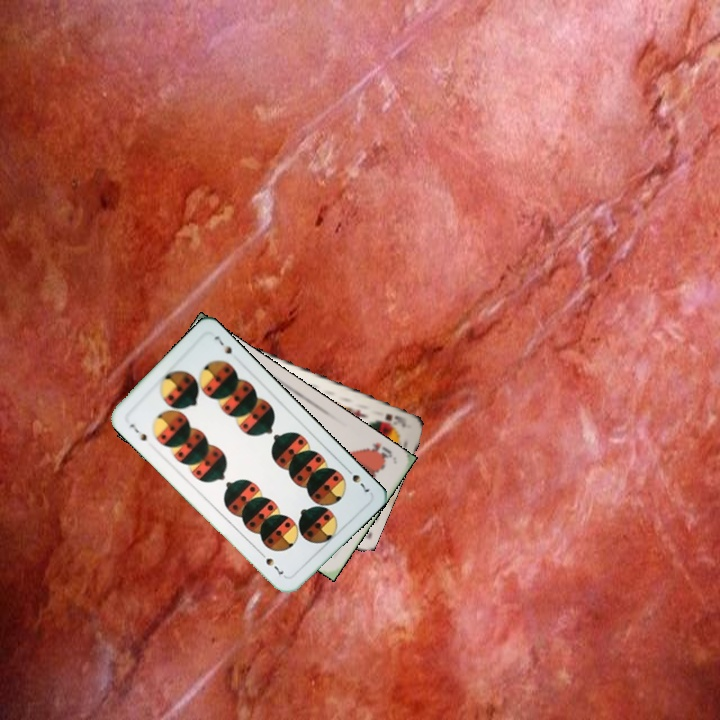HO: (363, 438, 395, 464)
S7: (341, 463, 372, 495), (126, 420, 150, 444)
SK: (372, 409, 409, 428)
